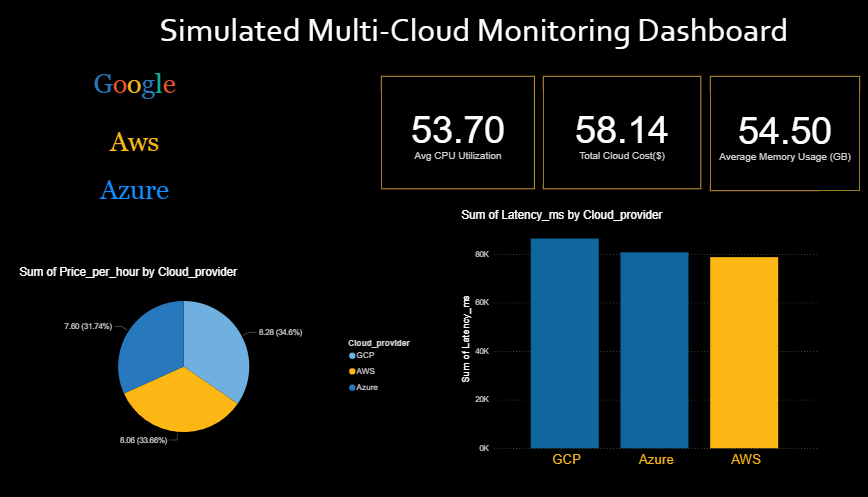

The dashboard page shown, as its layout file describes it:
{"tool":"powerbi","page":{"name":"Page 1","canvas":[1400,800],"ordinal":0},"visuals":[{"type":"textbox","box":[222.4,12.8,1084.8,76.8],"z":0},{"type":"textbox","box":[0,107.2,443.2,275.2],"z":1000},{"type":"clusteredColumnChart","fields":{"Category":["Cloud_Dataset.Cloud_provider"],"Y":["Sum(Cloud_Dataset.Latency_ms)"]},"box":[739.2,336,580.8,422.4],"z":2000},{"type":"card","fields":{"Values":["Cloud_Dataset.Average Cpu Utilization"]},"box":[616,124.8,246.4,180.8],"z":3000},{"type":"card","fields":{"Values":["Cloud_Dataset.Average Memory Usage"]},"box":[1142.4,124.8,240,184],"z":4000},{"type":"card","fields":{"Values":["Cloud_Dataset.Total Cloud Cost"]},"box":[875.2,124.8,252.8,180.8],"z":5000},{"type":"pieChart","fields":{"Category":["Cloud_Dataset.Cloud_provider"],"Y":["Sum(Cloud_Dataset.Price_per_hour)"]},"box":[32,427.2,649.6,304],"z":7000}]}

Visuals, with their boxes in screenshot pixels (x1, y1, x2, y2), scaled from the page's 1400x800 canvas onto the 868x497 screenshot:
textbox: x1=138 y1=8 x2=810 y2=56
textbox: x1=0 y1=67 x2=275 y2=238
clusteredColumnChart - Cloud_Dataset.Cloud_provider x Sum(Cloud_Dataset.Latency_ms): x1=458 y1=209 x2=818 y2=471
card - Cloud_Dataset.Average Cpu Utilization: x1=382 y1=78 x2=535 y2=190
card - Cloud_Dataset.Average Memory Usage: x1=708 y1=78 x2=857 y2=192
card - Cloud_Dataset.Total Cloud Cost: x1=543 y1=78 x2=699 y2=190
pieChart - Cloud_Dataset.Cloud_provider x Sum(Cloud_Dataset.Price_per_hour): x1=20 y1=265 x2=423 y2=454
